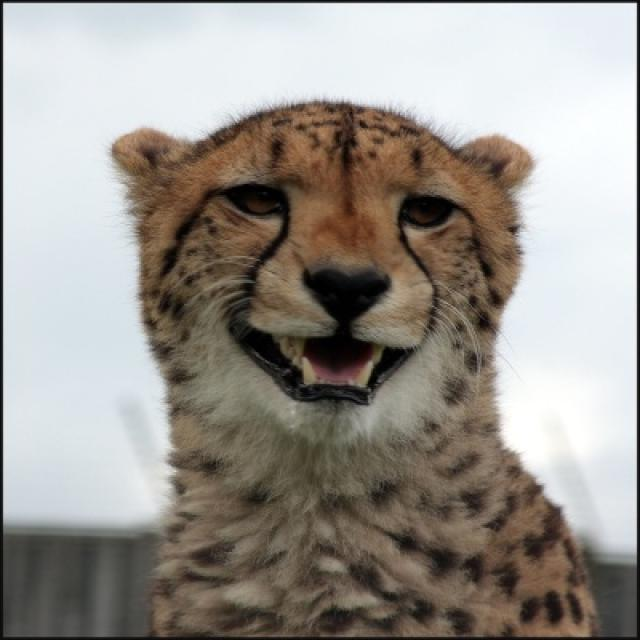Cheetah: (100, 95, 600, 638)
